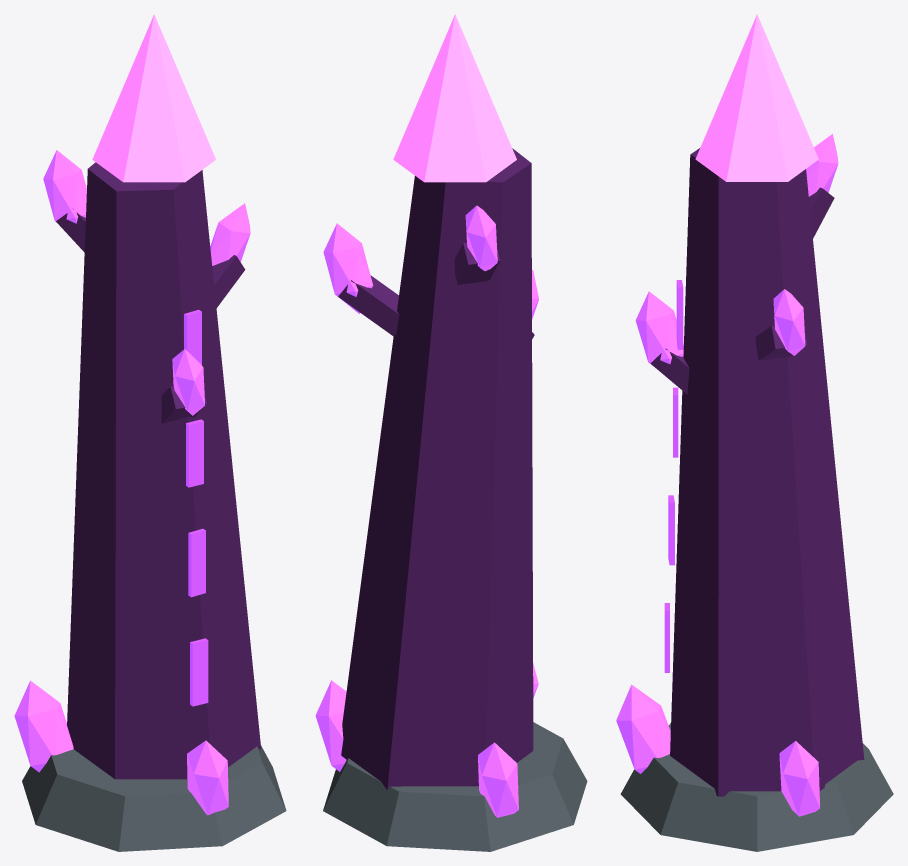
Rendered from wellspring_distant_monolith.glb.
3 views of the same model, side by side, from view 1: azimuth 30°, elevation 25°; view 2: azimuth 150°, elevation 25°; view 3: azimuth 270°, elevation 25° (orthographic).
Parts seen in each view (by area): view 1: Distant_Monolith_Shaft, Distant_Monolith_Foot, Distant_Monolith_Crown, Distant_Monolith_Base_Shard_2, Distant_Monolith_Base_Shard_3, Distant_Monolith_Shoulder_Crystal_2, Distant_Monolith_Shoulder_Crystal_1, Distant_Monolith_Shoulder_Crystal_3, Distant_Monolith_Slit_1, Distant_Monolith_Slit_3, Distant_Monolith_Slit_2, Distant_Monolith_Shoulder_1 (+3 smaller); view 2: Distant_Monolith_Shaft, Distant_Monolith_Foot, Distant_Monolith_Crown, Distant_Monolith_Base_Shard_2, Distant_Monolith_Shoulder_Crystal_1, Distant_Monolith_Shoulder_1, Distant_Monolith_Base_Shard_1, Distant_Monolith_Shoulder_Crystal_2, Distant_Monolith_Shoulder_2; view 3: Distant_Monolith_Shaft, Distant_Monolith_Foot, Distant_Monolith_Crown, Distant_Monolith_Base_Shard_3, Distant_Monolith_Base_Shard_1, Distant_Monolith_Shoulder_Crystal_3, Distant_Monolith_Shoulder_Crystal_1, Distant_Monolith_Shoulder_Crystal_2, Distant_Monolith_Shoulder_1, Distant_Monolith_Shoulder_3, Distant_Monolith_Shoulder_2, Distant_Monolith_Slit_4.
Boxes of the visible parts, bbox=[...] form: Distant_Monolith_Shaft: bbox=[67, 162, 261, 779]; Distant_Monolith_Foot: bbox=[22, 745, 286, 851]; Distant_Monolith_Crown: bbox=[92, 14, 215, 182]; Distant_Monolith_Base_Shard_2: bbox=[14, 680, 73, 772]; Distant_Monolith_Base_Shard_3: bbox=[187, 740, 228, 815]; Distant_Monolith_Shoulder_Crystal_2: bbox=[43, 150, 86, 223]; Distant_Monolith_Shoulder_Crystal_1: bbox=[210, 203, 250, 265]; Distant_Monolith_Shoulder_Crystal_3: bbox=[172, 349, 204, 415]; Distant_Monolith_Slit_1: bbox=[190, 638, 208, 706]; Distant_Monolith_Slit_3: bbox=[186, 419, 203, 487]; Distant_Monolith_Slit_2: bbox=[188, 528, 205, 597]; Distant_Monolith_Shoulder_1: bbox=[212, 255, 245, 307]; Distant_Monolith_Shaft: bbox=[341, 148, 533, 790]; Distant_Monolith_Foot: bbox=[323, 722, 587, 851]; Distant_Monolith_Crown: bbox=[393, 14, 516, 182]; Distant_Monolith_Base_Shard_2: bbox=[478, 742, 518, 817]; Distant_Monolith_Shoulder_Crystal_1: bbox=[323, 223, 373, 313]; Distant_Monolith_Shoulder_1: bbox=[338, 275, 399, 336]; Distant_Monolith_Base_Shard_1: bbox=[315, 680, 346, 771]; Distant_Monolith_Shoulder_Crystal_2: bbox=[465, 205, 497, 271]; Distant_Monolith_Shoulder_2: bbox=[454, 242, 499, 284]; Distant_Monolith_Shaft: bbox=[670, 148, 864, 796]; Distant_Monolith_Foot: bbox=[620, 723, 893, 851]; Distant_Monolith_Crown: bbox=[695, 14, 818, 181]; Distant_Monolith_Base_Shard_3: bbox=[616, 684, 670, 773]; Distant_Monolith_Base_Shard_1: bbox=[779, 741, 820, 816]; Distant_Monolith_Shoulder_Crystal_3: bbox=[635, 291, 683, 365]; Distant_Monolith_Shoulder_Crystal_1: bbox=[773, 289, 805, 355]; Distant_Monolith_Shoulder_Crystal_2: bbox=[806, 134, 838, 196]; Distant_Monolith_Shoulder_1: bbox=[755, 325, 807, 360]; Distant_Monolith_Shoulder_3: bbox=[651, 348, 689, 394]; Distant_Monolith_Shoulder_2: bbox=[809, 187, 834, 238]; Distant_Monolith_Slit_4: bbox=[676, 280, 683, 349].
Size of the model in its own units: 2.3 by 7.25 by 2.34.
